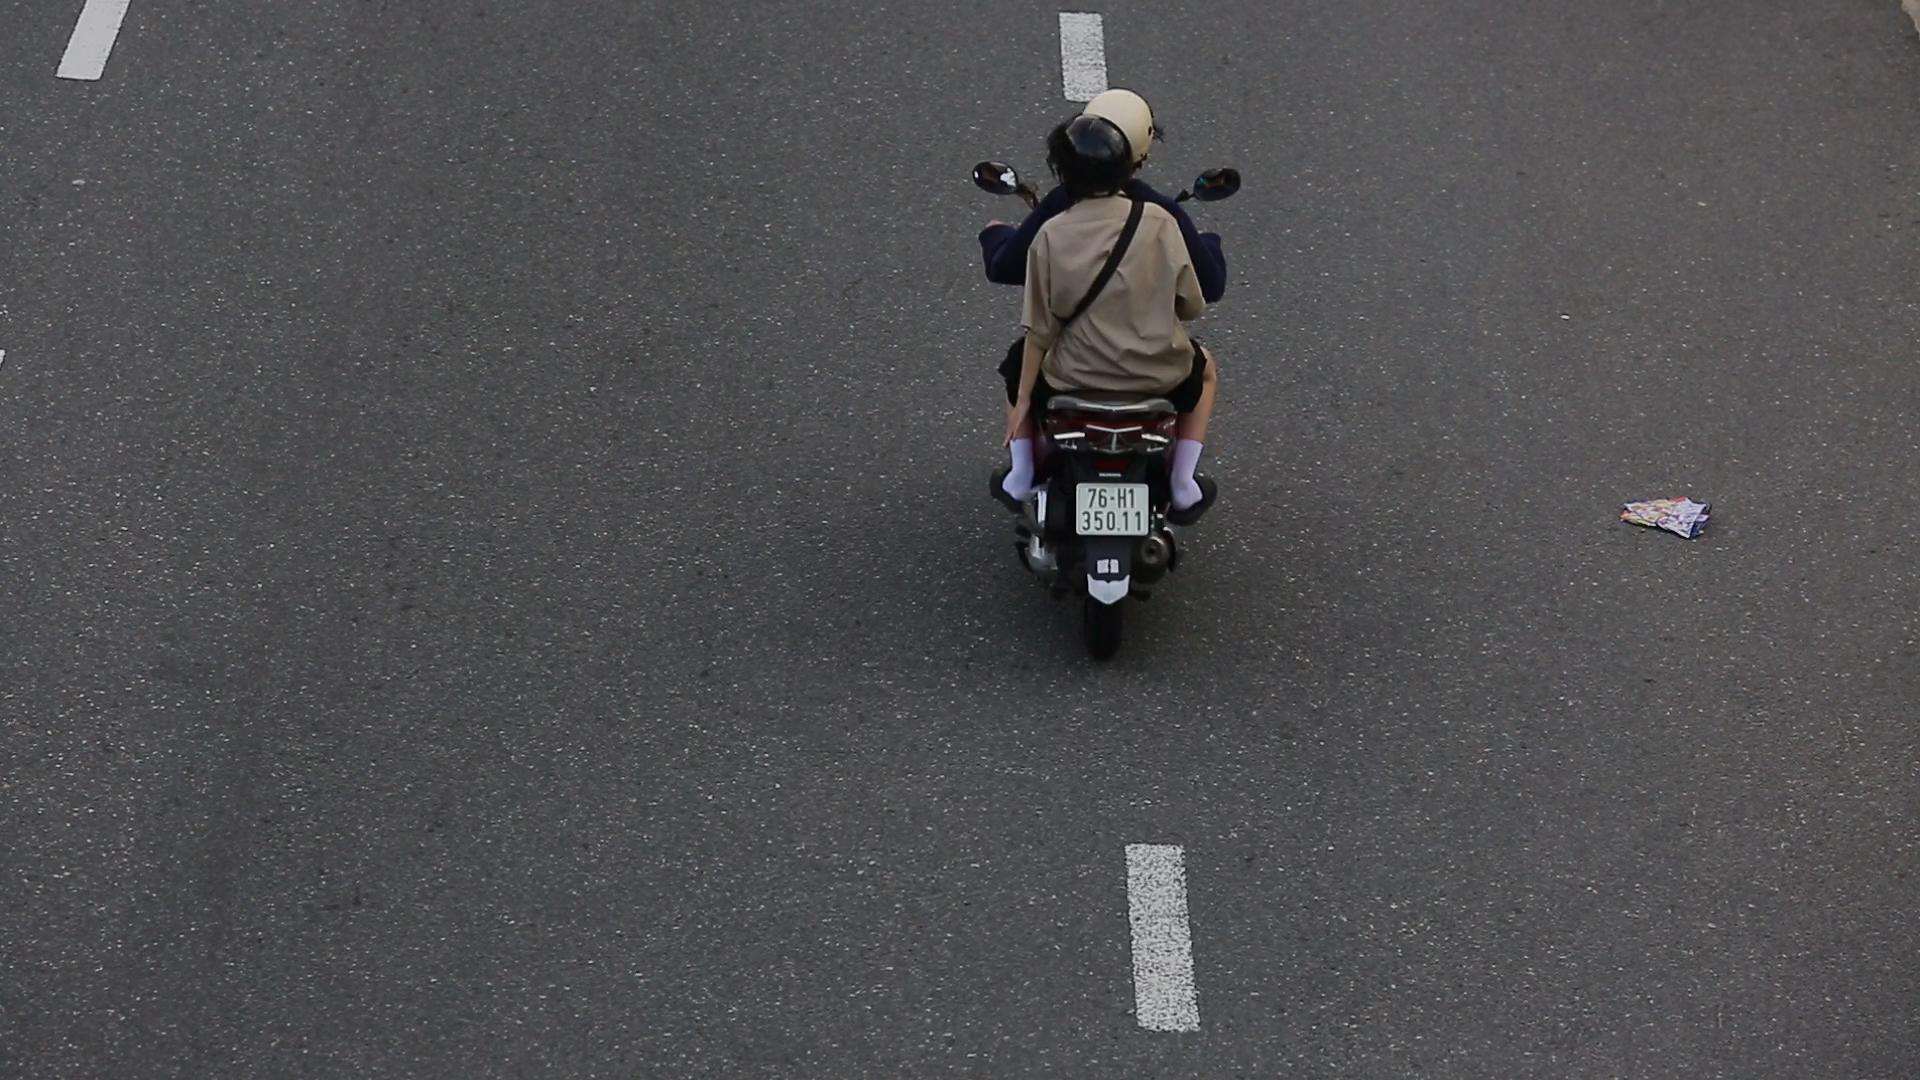motobike: (973, 74, 1242, 675)
